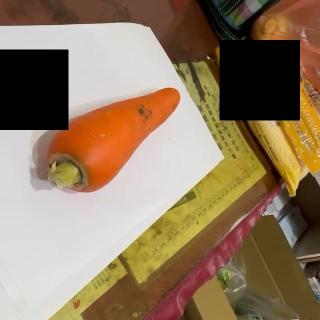carrot: (45, 87, 182, 192)
